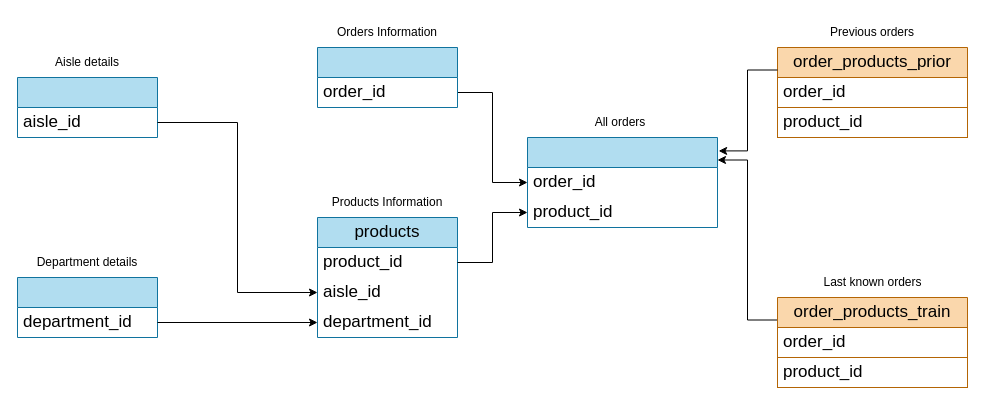
Some shapes in this 985 by 405 pixel diagram are drawn without their labels. The shapes that lost their labels are listed below. From the top down, each one's box as (x1, y1, x2, y2) in pixels, then its label:
(316, 46, 458, 108): orders
(16, 76, 158, 138): aisles
(526, 136, 718, 228): order_products
(16, 276, 158, 338): departments
